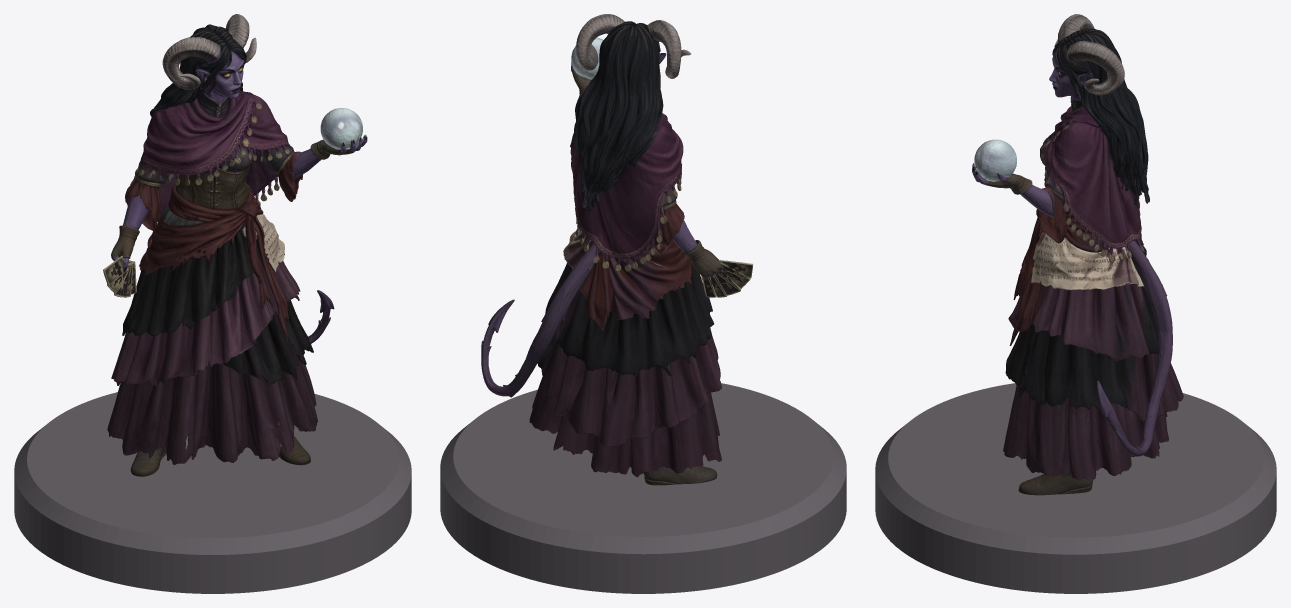
Rendered from sorrow.glb.
3 views of the same model, side by side, from view 1: azimuth 30°, elevation 25°; view 2: azimuth 150°, elevation 25°; view 3: azimuth 270°, elevation 25° (orthographic). The views are drawn at different scales.
Parts seen in each view (by area): view 1: figure, base; view 2: figure, base; view 3: figure, base.
Part boxes in pixels (x1,y1,x2,y2): figure: (103, 14, 367, 476); base: (14, 392, 411, 593); figure: (481, 14, 753, 485); base: (440, 383, 846, 593); figure: (972, 14, 1183, 495); base: (875, 383, 1276, 593).
Bounding box in the file's own units: 25 × 33.2 × 25.
Materials: 1 (1 with a texture image).
